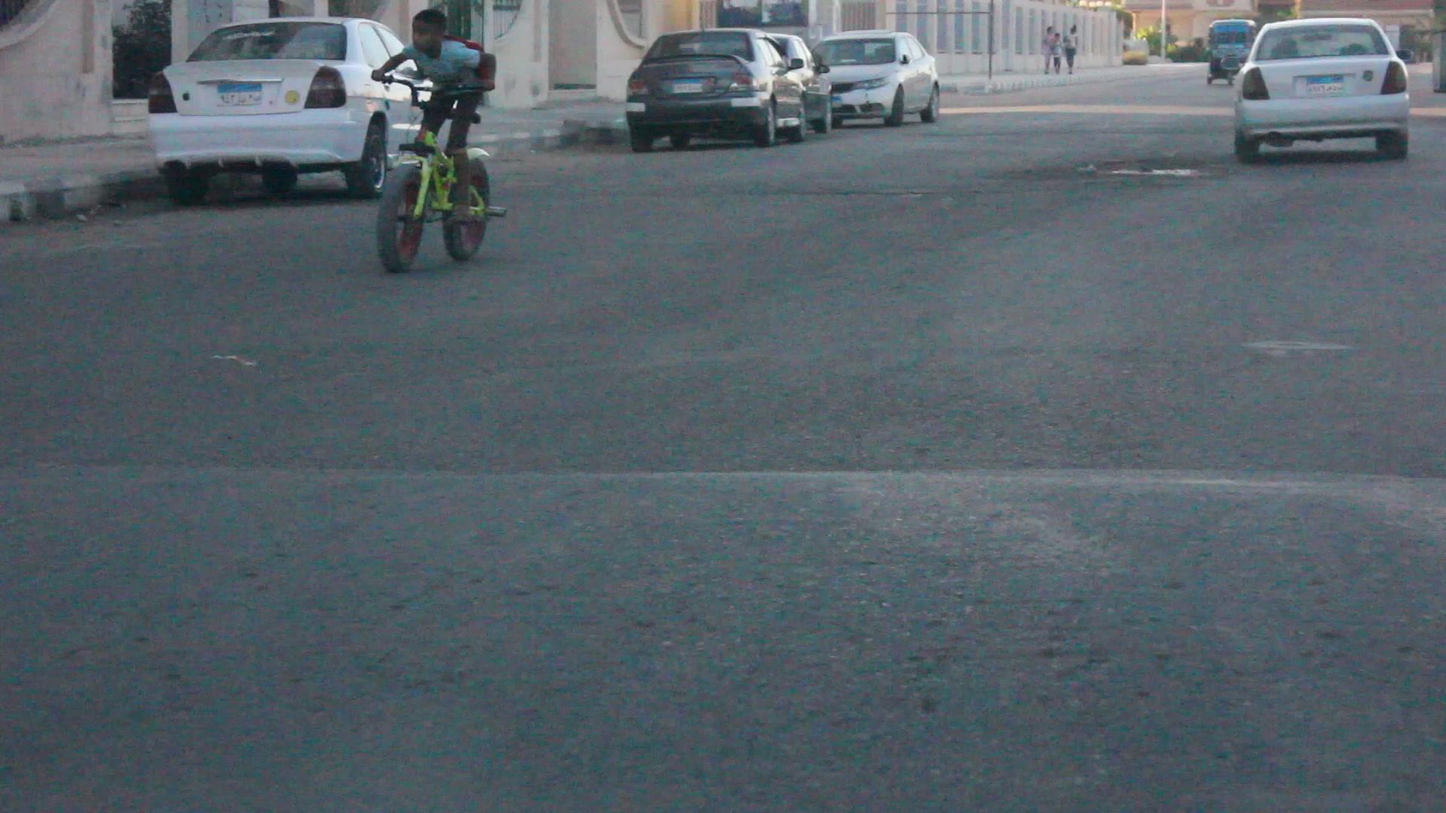Bump: (0, 462, 1445, 812)
